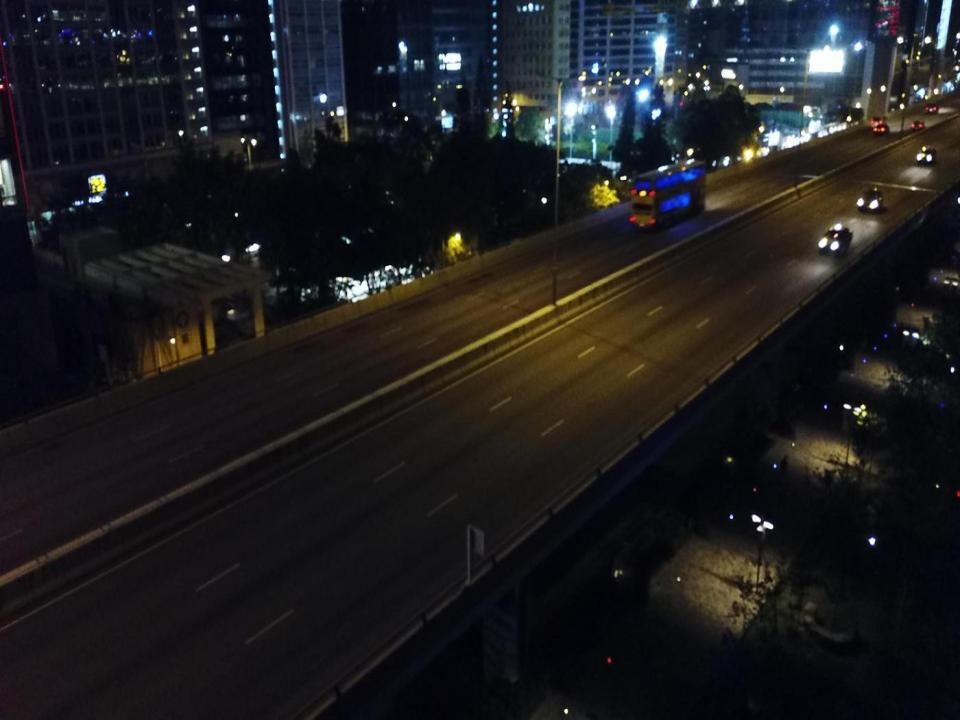bus: (630, 166, 708, 235)
car: (819, 220, 852, 259), (856, 187, 884, 212), (916, 145, 936, 164), (873, 124, 891, 136), (910, 120, 926, 132), (927, 102, 940, 115), (870, 115, 884, 127)
